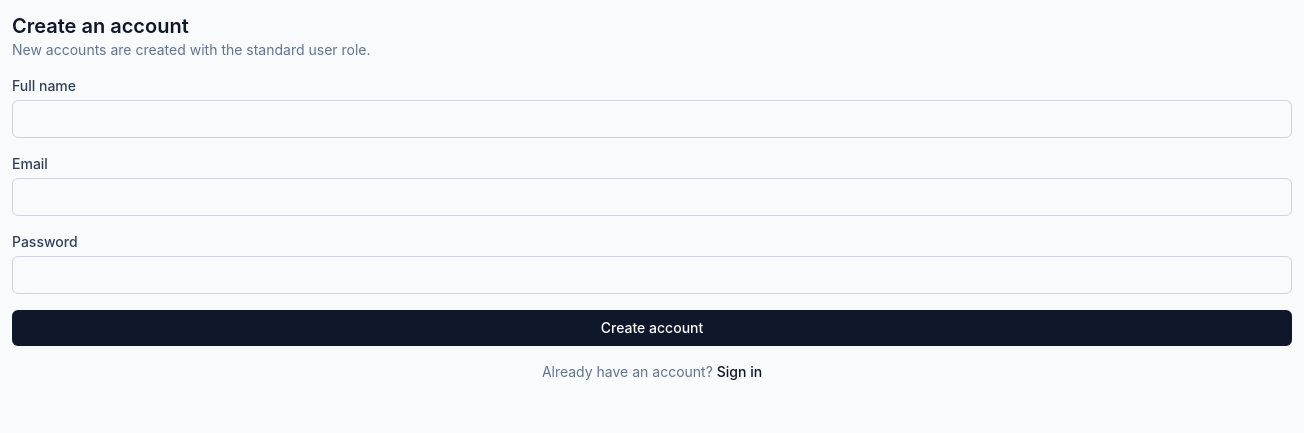
Test: RegisterForm › shows the rejected error message and does not navigate when registration fails
This screenshot has width=1304, height=433.
Type "Ada Lovelace" into the field labelled "Full name".
click(652, 119); type("Ada Lovelace")  # box x1=12 y1=100 x2=1292 y2=138
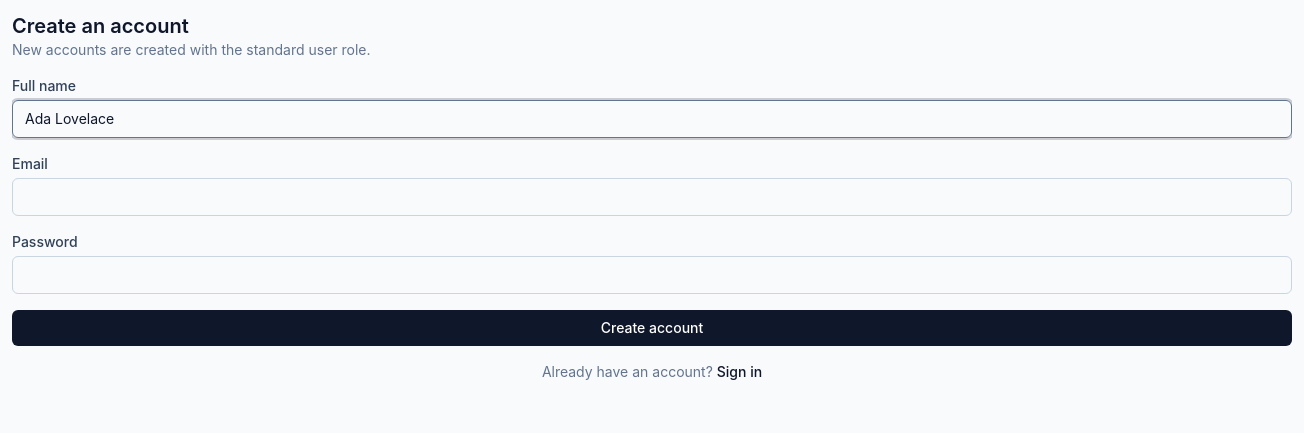
Type "ada@example.com" into the field labelled "Email".
click(652, 197); type("ada@example.com")  # box x1=12 y1=178 x2=1292 y2=216
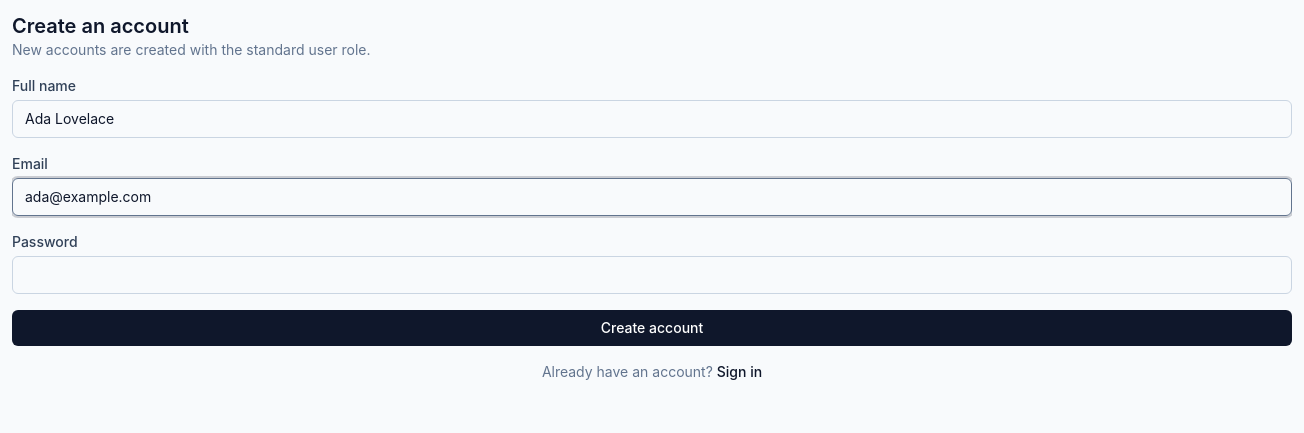
Type "secret123" into the password field labelled "Password".
click(652, 275); type("secret123")  # box x1=12 y1=256 x2=1292 y2=294
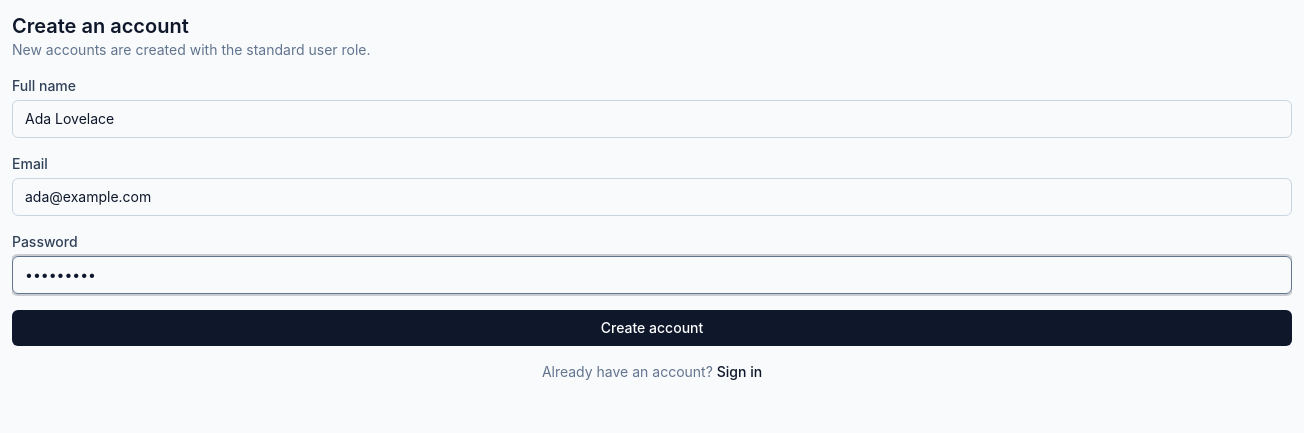
Click the button "Create account".
click(652, 328)  # box x1=12 y1=310 x2=1292 y2=346
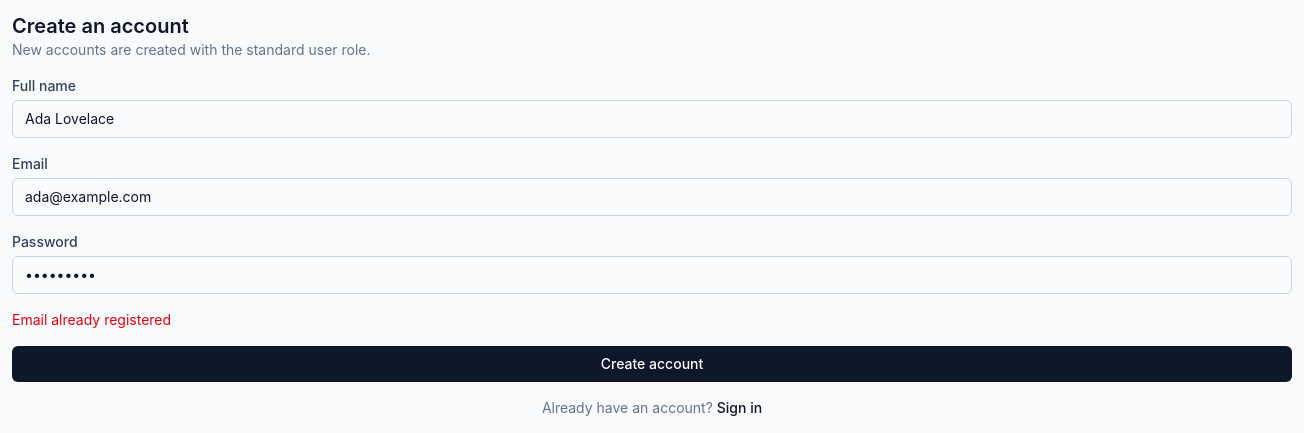
Check: the text "Email already registered" is shown, box x1=12 y1=311 x2=171 y2=328
